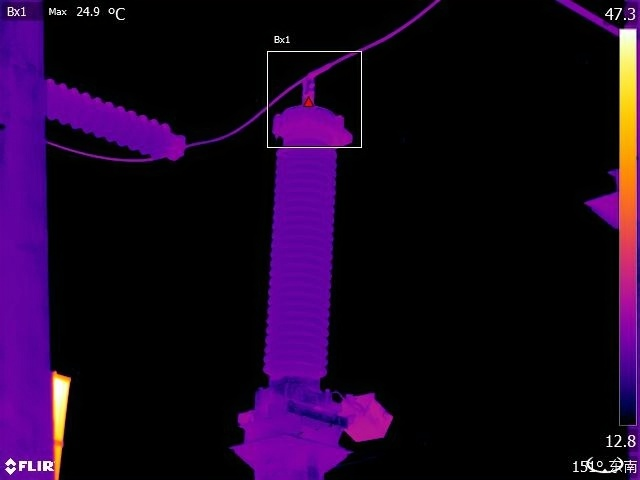post insulator: (37, 60, 190, 161)
potential transformer: (232, 94, 374, 480)
